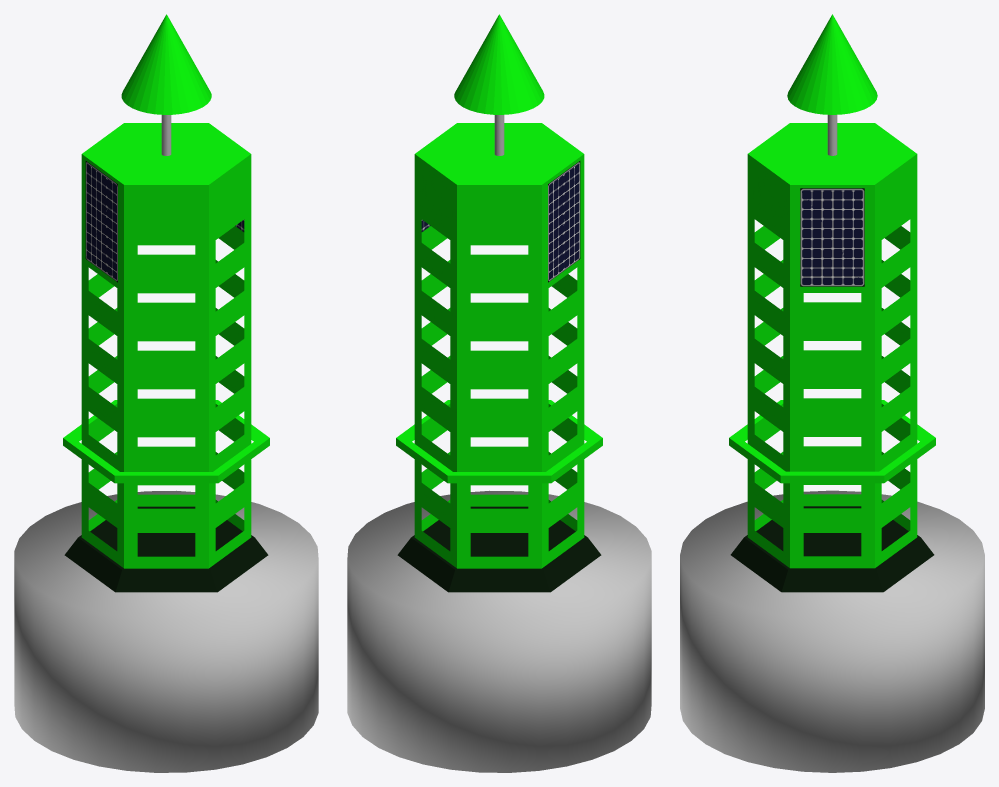
Rendered from Boy-Starboard.gltf.
The picture shows the model from 3 angles, left to right: view 1: azimuth 30°, elevation 25°; view 2: azimuth 150°, elevation 25°; view 3: azimuth 270°, elevation 25°; orthographic projection.
Visible parts, largest first — view 1: Cylinder.026, Cylinder.027, Cylinder.025, Cone, Cylinder.024, Plane.012; view 2: Cylinder.026, Cylinder.027, Cylinder.025, Cone, Cylinder.024, Plane.012; view 3: Cylinder.026, Cylinder.027, Cylinder.025, Plane.013, Cone, Cylinder.024.
Part boxes in pixels (x1,y1,x2,y2): Cylinder.026: (14,490,318,772); Cylinder.027: (81,123,251,568); Cylinder.025: (64,506,268,592); Cone: (121,14,211,114); Cylinder.024: (63,400,269,483); Plane.012: (85,161,117,282); Cylinder.026: (347,490,651,772); Cylinder.027: (414,123,584,568); Cylinder.025: (397,506,601,592); Cone: (454,14,544,114); Cylinder.024: (396,400,602,483); Plane.012: (548,161,580,282); Cylinder.026: (680,490,984,772); Cylinder.027: (747,123,917,568); Cylinder.025: (730,506,934,592); Plane.013: (800,188,864,286); Cone: (787,14,877,114); Cylinder.024: (729,400,935,483).
Bounding box in the file's own units: 1.8 × 4.52 × 1.8.
4 materials, 1 textured.
